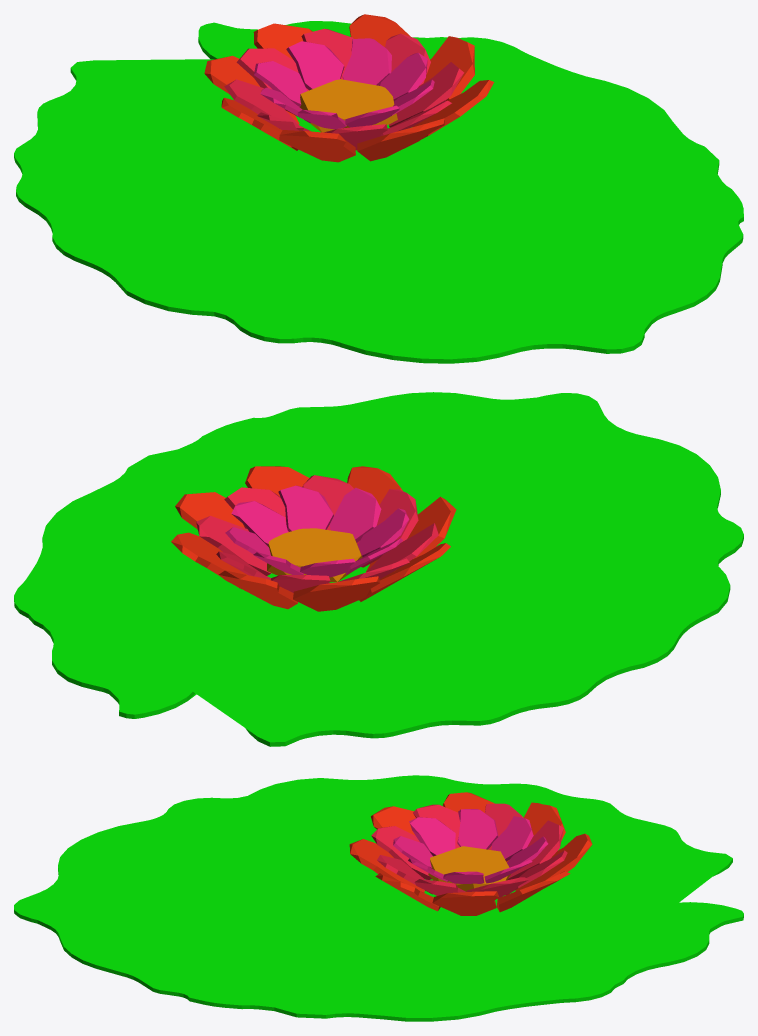
The model's file is lokvanj 4.fbx.
3 renders of one model, top to bottom at view 1: azimuth 30°, elevation 25°; view 2: azimuth 150°, elevation 25°; view 3: azimuth 270°, elevation 25°, orthographic. The views are drawn at different scales.
Parts seen in each view (by area): view 1: Cylinder.012; view 2: Cylinder.012; view 3: Cylinder.012.
Boxes of the visible parts, x1,y1,x2,y2 form: Cylinder.012: [14, 14, 743, 363]; Cylinder.012: [14, 392, 743, 746]; Cylinder.012: [14, 775, 743, 1021].
Size of the model in its own units: 368 by 47.47 by 469.
